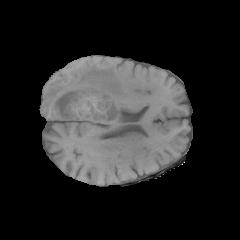glioma: (42, 63, 121, 121)
